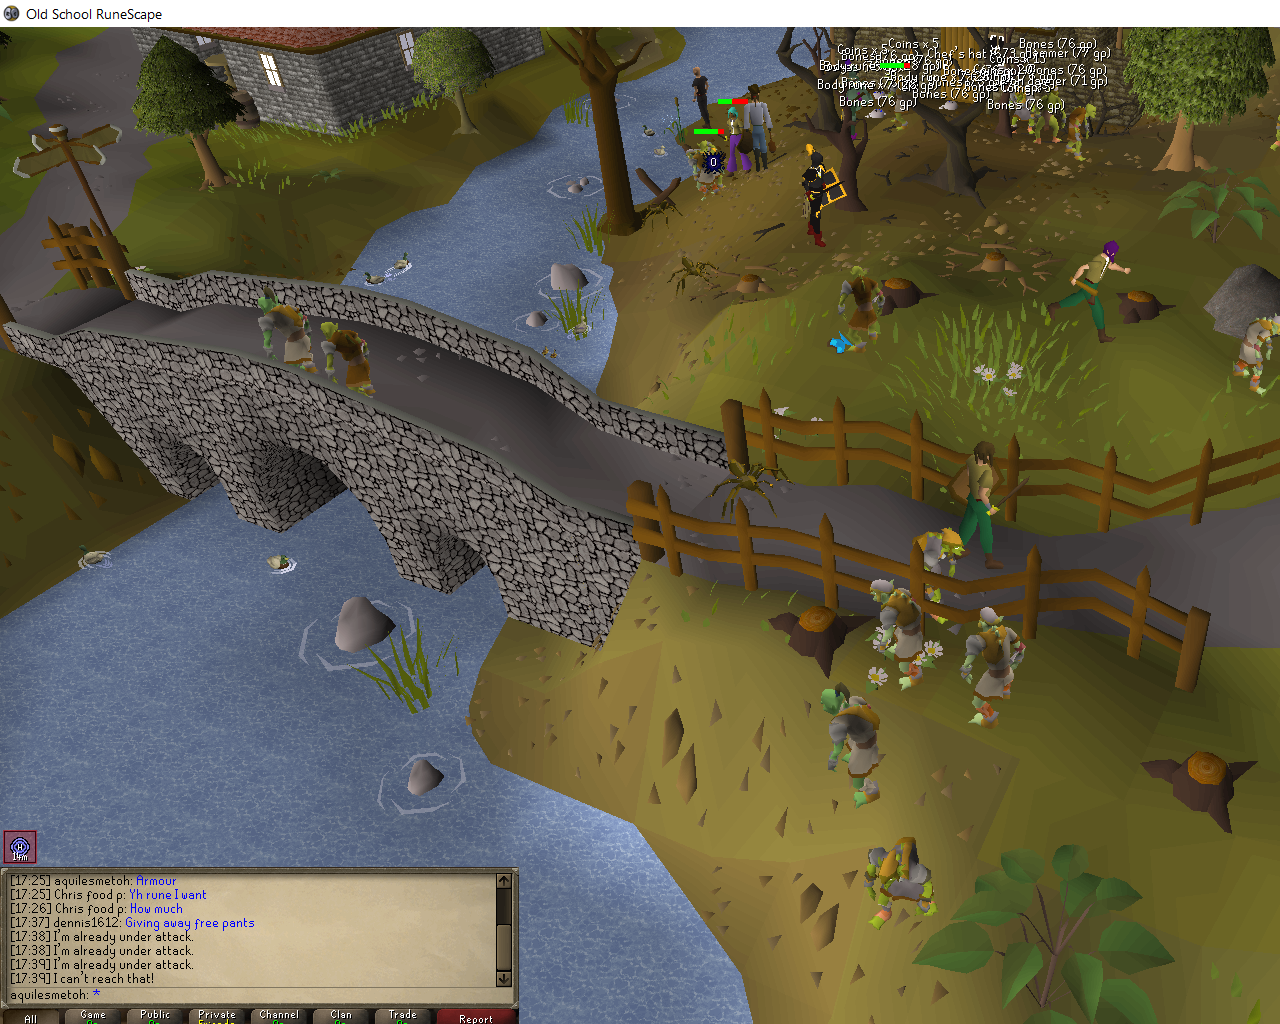Goblin: (811, 684, 886, 806), (863, 574, 936, 692), (958, 605, 1027, 728), (907, 526, 963, 626), (256, 287, 316, 377), (318, 321, 375, 401), (1231, 312, 1280, 399), (839, 264, 884, 350), (1031, 84, 1066, 148), (684, 146, 725, 196), (1067, 102, 1098, 164), (1003, 80, 1035, 138)
